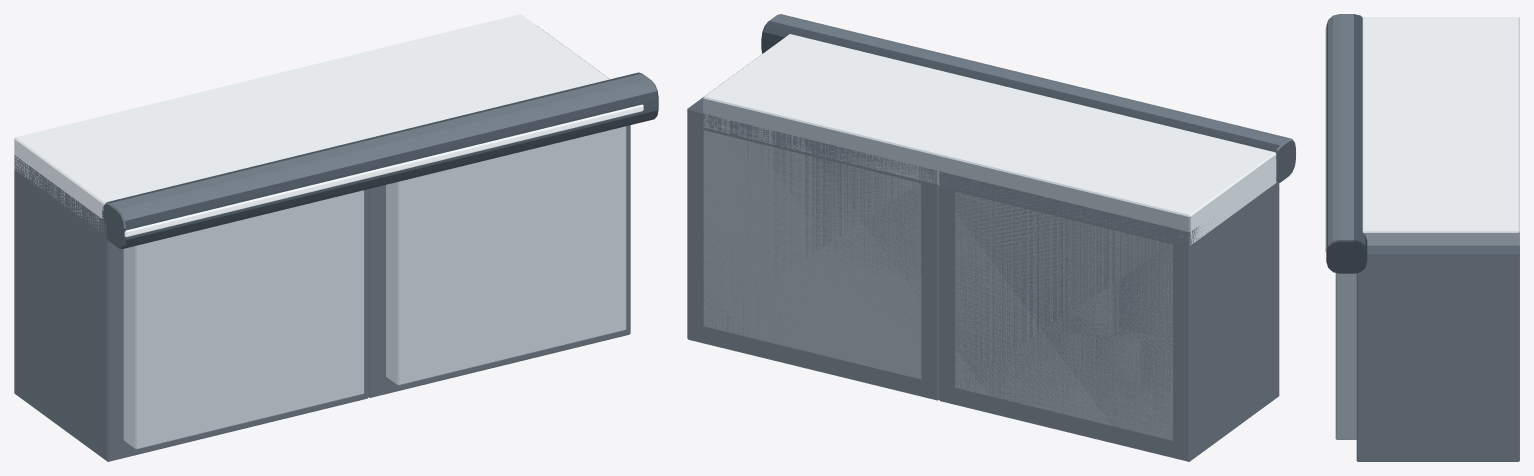
The model's file is Terrain_TopRun2R.gltf.
3 views of the same model, side by side, from view 1: azimuth 30°, elevation 25°; view 2: azimuth 150°, elevation 25°; view 3: azimuth 270°, elevation 25° (orthographic). The views are drawn at different scales.
Visible parts, largest first — view 1: Terrain_TopRun2R_baked; view 2: Terrain_TopRun2R_baked; view 3: Terrain_TopRun2R_baked.
Boxes of the visible parts, left/top/right/bottom form: Terrain_TopRun2R_baked: left=14, top=14, right=658, bottom=461; Terrain_TopRun2R_baked: left=687, top=14, right=1296, bottom=461; Terrain_TopRun2R_baked: left=1325, top=14, right=1519, bottom=461.
Size of the model in its own units: 2.04 by 0.9495 by 0.74.
